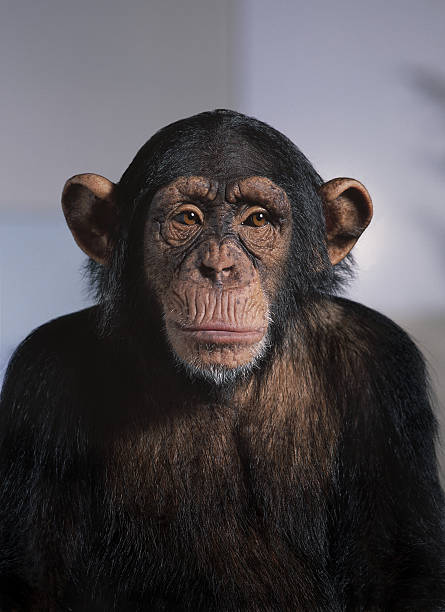chimpanzee: (48, 106, 434, 439)
